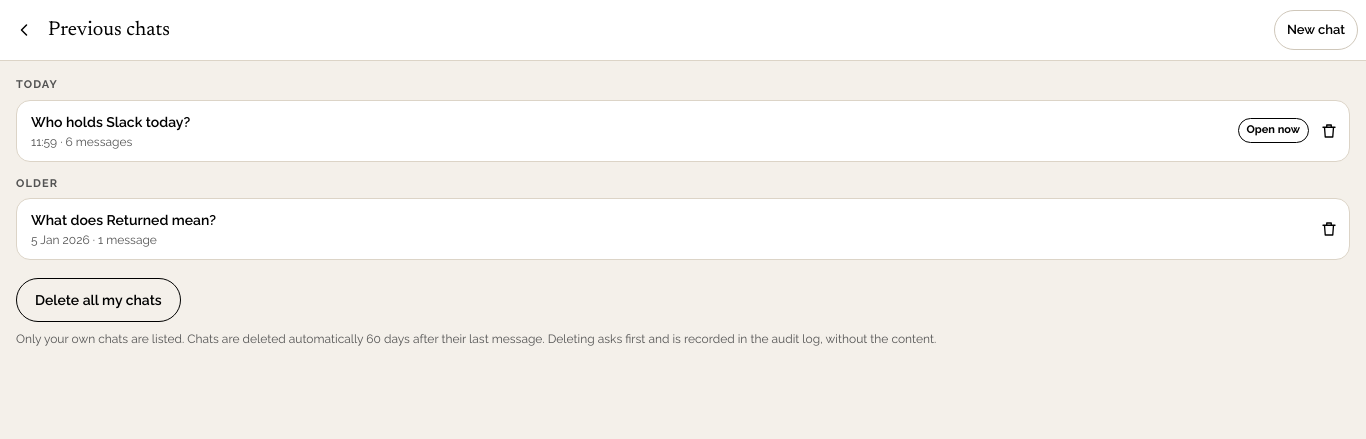
it: PreviousChats (board: Phone · Assistant · Previous chats) › delete all asks first
The image size is (1366, 439).
Step 1. Click the button "Delete all my chats" → (98, 300), box 16,278 -> 181,322
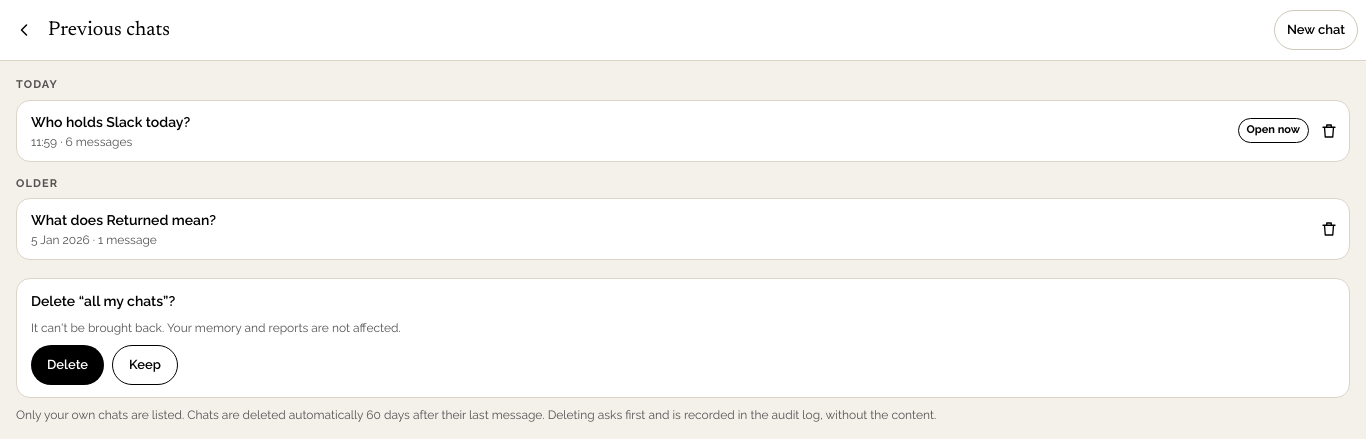
Step 2. Click the button "Delete" → (68, 365), box 31,345 -> 104,385
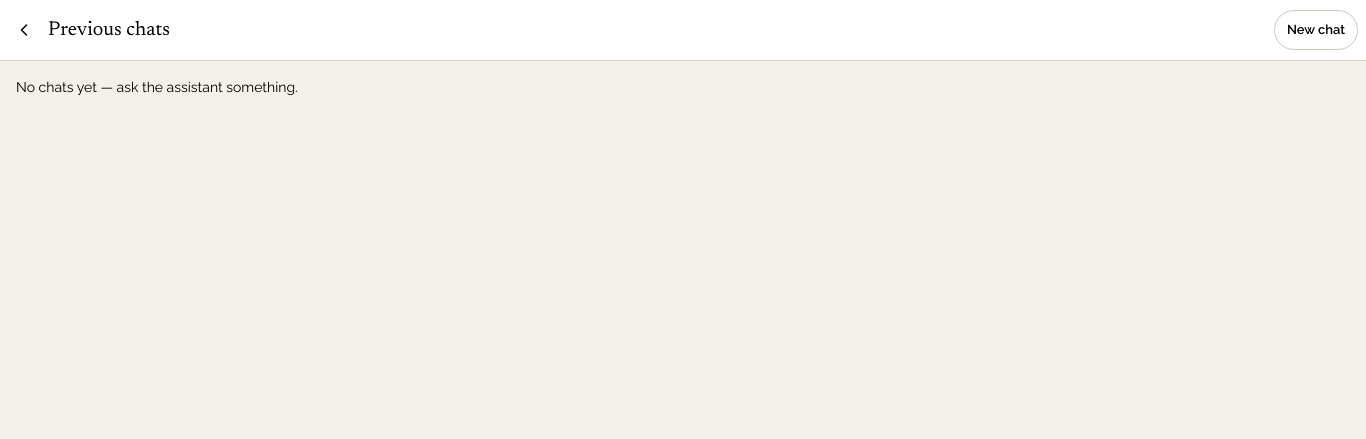
Expected: the text "No chats yet — ask the assistant something." is shown, 16,79 -> 298,95
